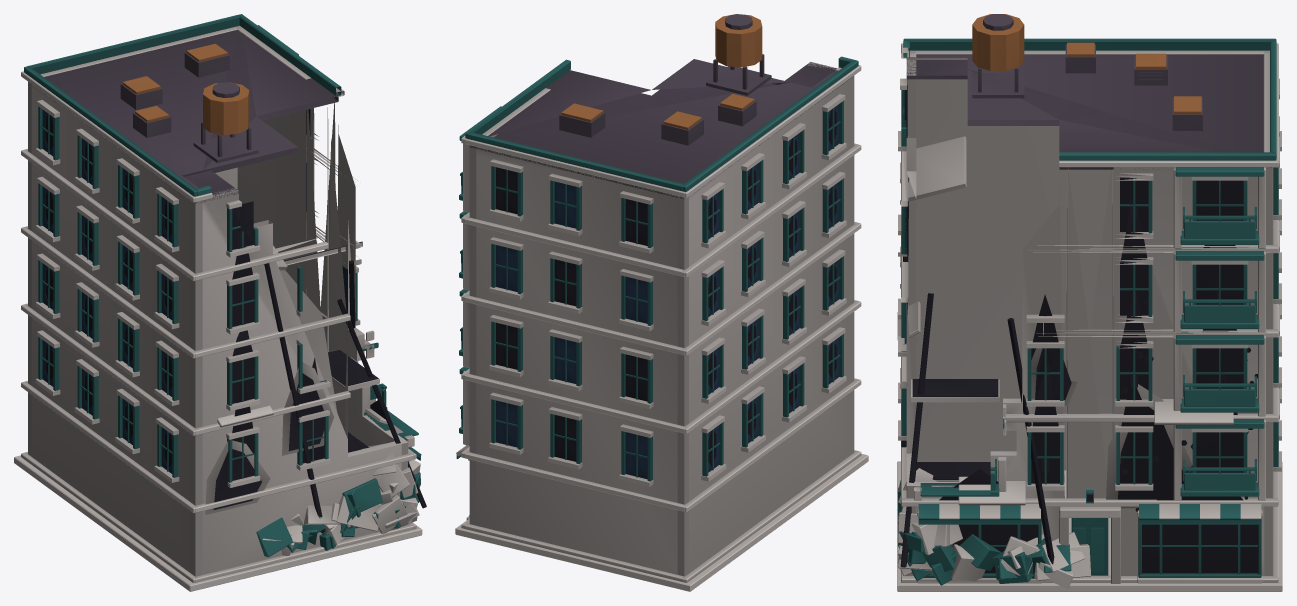
3 views of the same model, side by side, from view 1: azimuth 30°, elevation 25°; view 2: azimuth 150°, elevation 25°; view 3: azimuth 270°, elevation 25° (orthographic). The views are drawn at different scales.
Parts seen in each view (by area): view 1: body_pal_picketWhite, body_pal_backpackTeal, roof_pal_asphalt, body_pal_uiDark, body_pal_blueTrim, roof_pal_woodWarm; view 2: body_pal_picketWhite, body_pal_backpackTeal, roof_pal_asphalt, body_pal_blueTrim, body_pal_uiDark, roof_pal_woodWarm; view 3: body_pal_picketWhite, body_pal_backpackTeal, body_pal_uiDark, roof_pal_asphalt, roof_pal_woodWarm, door_front_pal_backpackTeal.
Boxes of the visible parts, x1=… form: body_pal_picketWhite: x1=14, y1=25, x2=422, y2=591; body_pal_backpackTeal: x1=24, y1=14, x2=421, y2=557; roof_pal_asphalt: x1=44, y1=30, x2=338, y2=203; body_pal_uiDark: x1=45, y1=109, x2=426, y2=532; body_pal_blueTrim: x1=42, y1=110, x2=347, y2=473; roof_pal_woodWarm: x1=122, y1=43, x2=249, y2=135; body_pal_picketWhite: x1=455, y1=62, x2=868, y2=591; body_pal_backpackTeal: x1=456, y1=56, x2=858, y2=516; roof_pal_asphalt: x1=469, y1=14, x2=853, y2=199; body_pal_blueTrim: x1=496, y1=104, x2=839, y2=479; body_pal_uiDark: x1=496, y1=109, x2=836, y2=466; roof_pal_woodWarm: x1=561, y1=14, x2=762, y2=129; body_pal_picketWhite: x1=897, y1=43, x2=1282, y2=591; body_pal_backpackTeal: x1=897, y1=38, x2=1278, y2=585; body_pal_uiDark: x1=900, y1=85, x2=1257, y2=573; roof_pal_asphalt: x1=906, y1=14, x2=1271, y2=169; roof_pal_woodWarm: x1=972, y1=14, x2=1201, y2=114; door_front_pal_backpackTeal: x1=1071, y1=518, x2=1108, y2=575.
Size of the model in its own units: 10 by 17.76 by 12.6.
